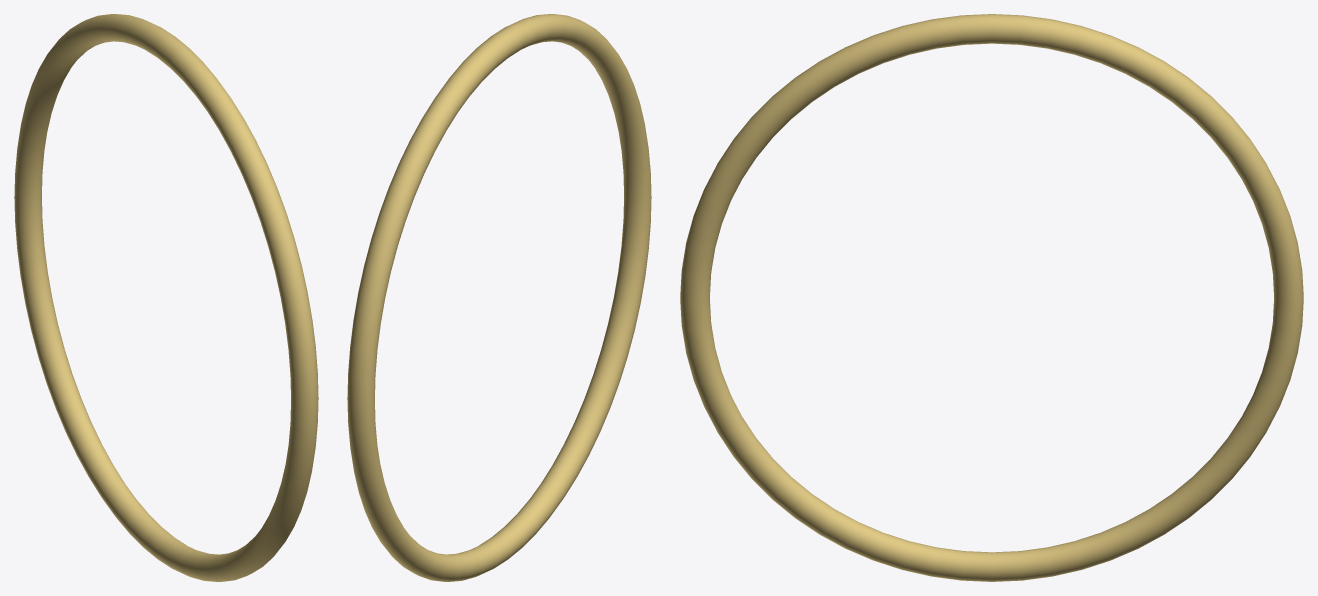
File: earringsSimple.glb
3 views of the same model, side by side, from view 1: azimuth 30°, elevation 25°; view 2: azimuth 150°, elevation 25°; view 3: azimuth 270°, elevation 25° (orthographic). The views are drawn at different scales.
Parts seen in each view (by area): view 1: Torus.001; view 2: Torus.001; view 3: Torus.001.
Part boxes in pixels (x1,y1,x2,y2): Torus.001: [14, 14, 318, 581]; Torus.001: [347, 14, 651, 581]; Torus.001: [680, 14, 1303, 581].
Size of the model in its own units: 0.00215 by 0.0452 by 0.0452.
